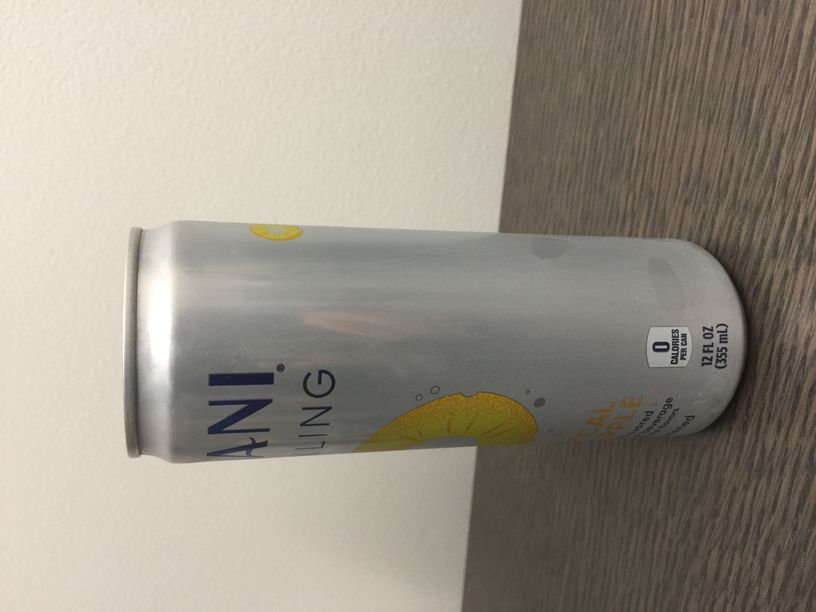pineapple: (347, 376, 644, 455), (229, 221, 320, 252)
